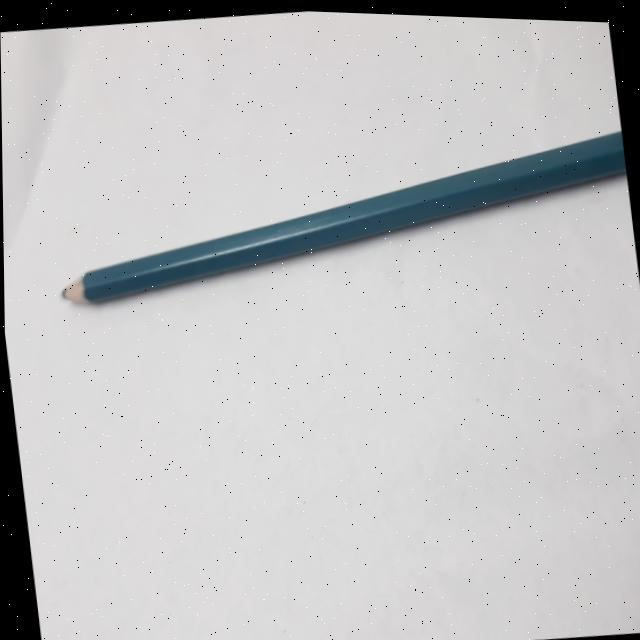pencil: (38, 86, 638, 329)
